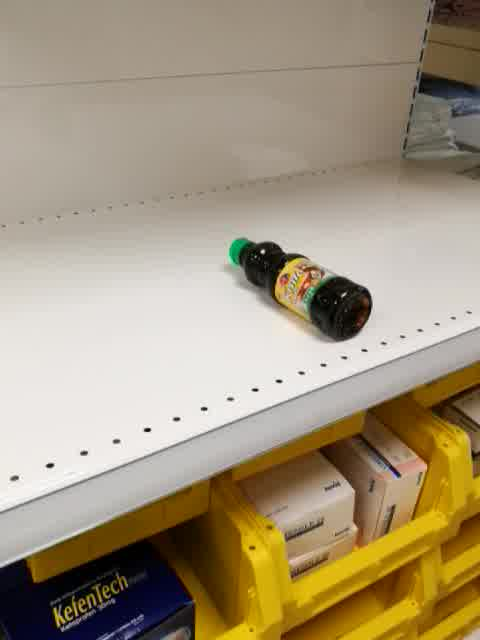cookingoil: (226, 234, 375, 346)
